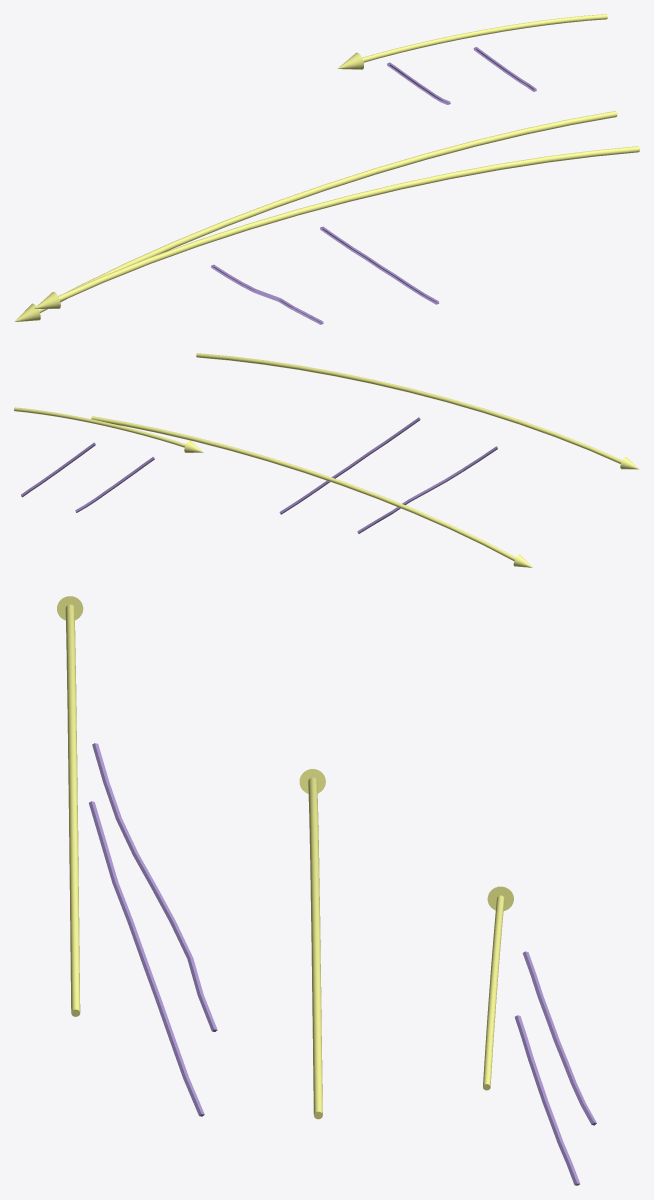
Rendered from lineation.glb.
The picture shows the model from 3 angles, top to bottom: view 1: azimuth 30°, elevation 25°; view 2: azimuth 150°, elevation 25°; view 3: azimuth 270°, elevation 25°; orthographic projection. The views are drawn at different scales.
Parts seen in each view (by area): view 1: BézierCurve.005, BézierCurve.009; view 2: BézierCurve.005, BézierCurve.009; view 3: BézierCurve.005, BézierCurve.009.
Boxes of the visible parts, x1=… form: BézierCurve.005: x1=14, y1=14, x2=639, y2=321; BézierCurve.009: x1=211, y1=47, x2=536, y2=324; BézierCurve.005: x1=14, y1=353, x2=639, y2=567; BézierCurve.009: x1=21, y1=417, x2=497, y2=533; BézierCurve.005: x1=57, y1=596, x2=513, y2=1119; BézierCurve.009: x1=89, y1=743, x2=596, y2=1185.
Size of the model in its own units: 0.3186 by 0.0738 by 0.143.
